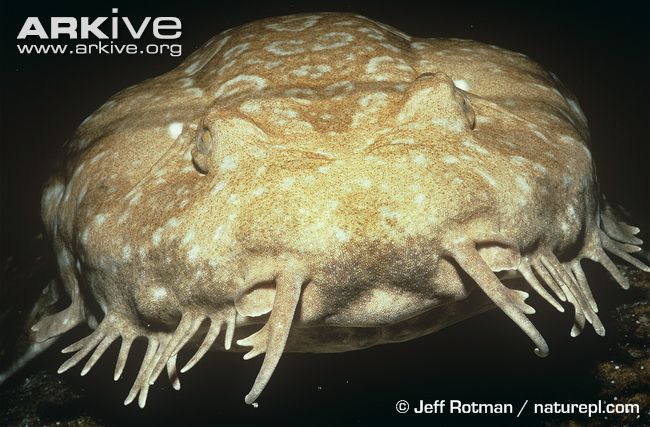shark: (18, 11, 642, 393)
